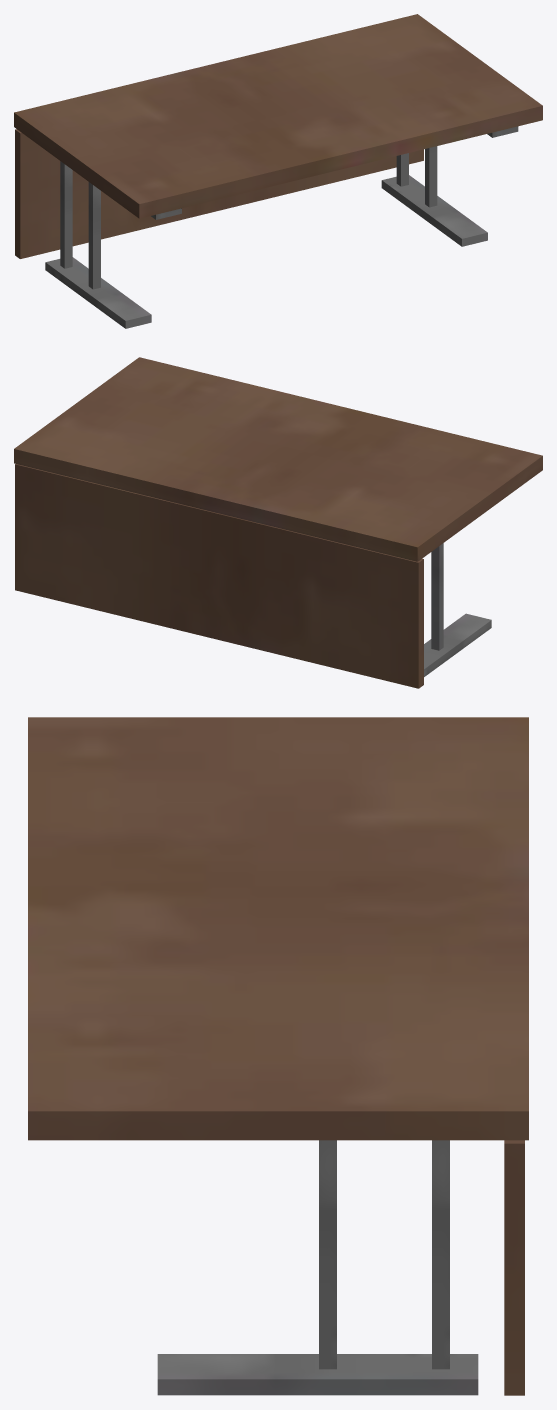
File: office-desk-worn--3.gltf
3 views of the same model, one above another, from view 1: azimuth 30°, elevation 25°; view 2: azimuth 150°, elevation 25°; view 3: azimuth 270°, elevation 25° (orthographic). The views are drawn at different scales.
Parts seen in each view (by area): view 1: Desk_small; view 2: Desk_small; view 3: Desk_small.
Boxes of the visible parts, x1=… form: Desk_small: x1=14, y1=14, x2=542, y2=328; Desk_small: x1=14, y1=357, x2=542, y2=688; Desk_small: x1=28, y1=717, x2=528, y2=1395.
Bounding box in the file's own units: 2.22 × 0.8039 × 1.19.
1 material, 1 textured.
